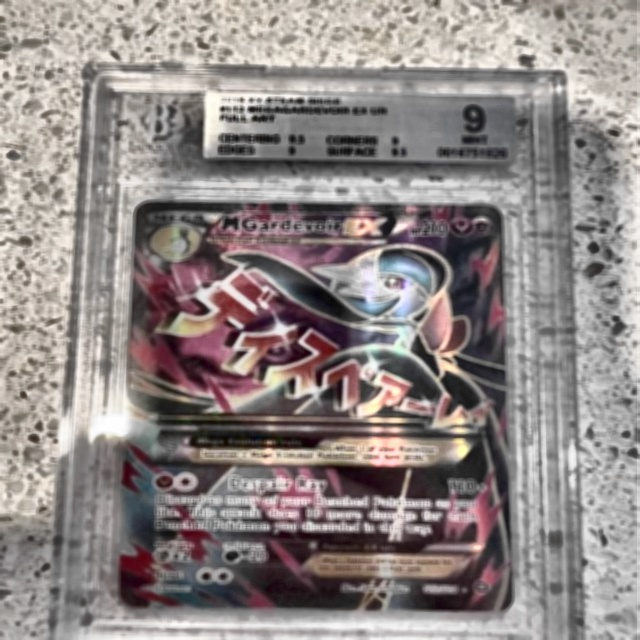card: (116, 200, 516, 614)
